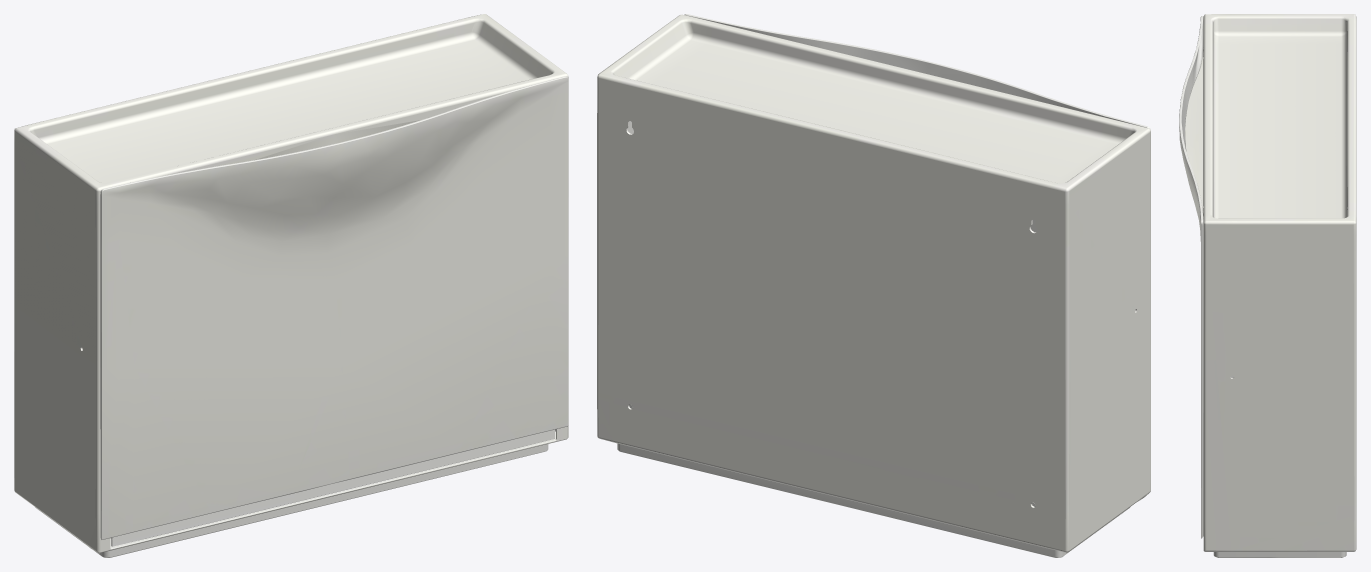
File: TRONES_00397307.glb
The picture shows the model from 3 angles, left to right: view 1: azimuth 30°, elevation 25°; view 2: azimuth 150°, elevation 25°; view 3: azimuth 270°, elevation 25°; orthographic projection. The views are drawn at different scales.
Visible parts, largest first — view 1: 00397307-TRONES001; view 2: 00397307-TRONES001; view 3: 00397307-TRONES001.
Boxes of the visible parts, x1=… form: 00397307-TRONES001: x1=14, y1=14, x2=568, y2=557; 00397307-TRONES001: x1=597, y1=14, x2=1150, y2=557; 00397307-TRONES001: x1=1179, y1=14, x2=1356, y2=557.
Bounding box in the file's own units: 0.5131 × 0.3918 × 0.184.
Materials: 1 (1 with a texture image).
